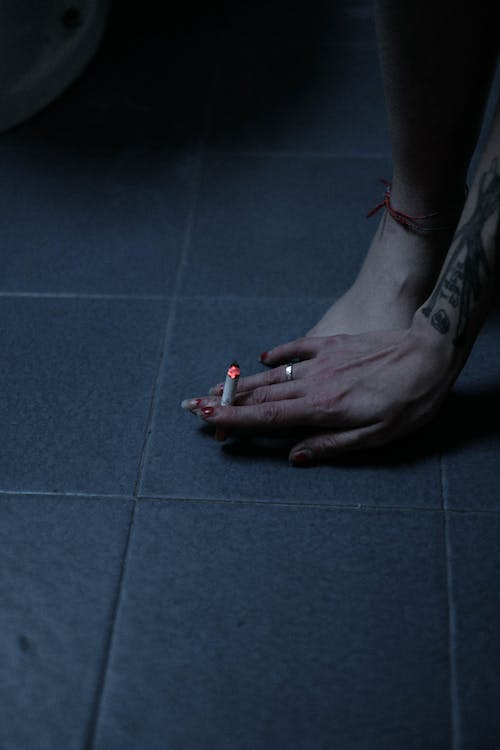cigarette: (218, 359, 243, 407)
